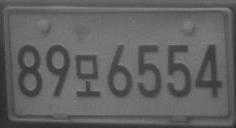4: (194, 43, 223, 98)
5: (167, 43, 192, 98), (137, 44, 162, 98)
6: (106, 43, 133, 97)
8: (17, 43, 43, 97)
9: (45, 43, 71, 97)
모: (75, 53, 101, 97)
